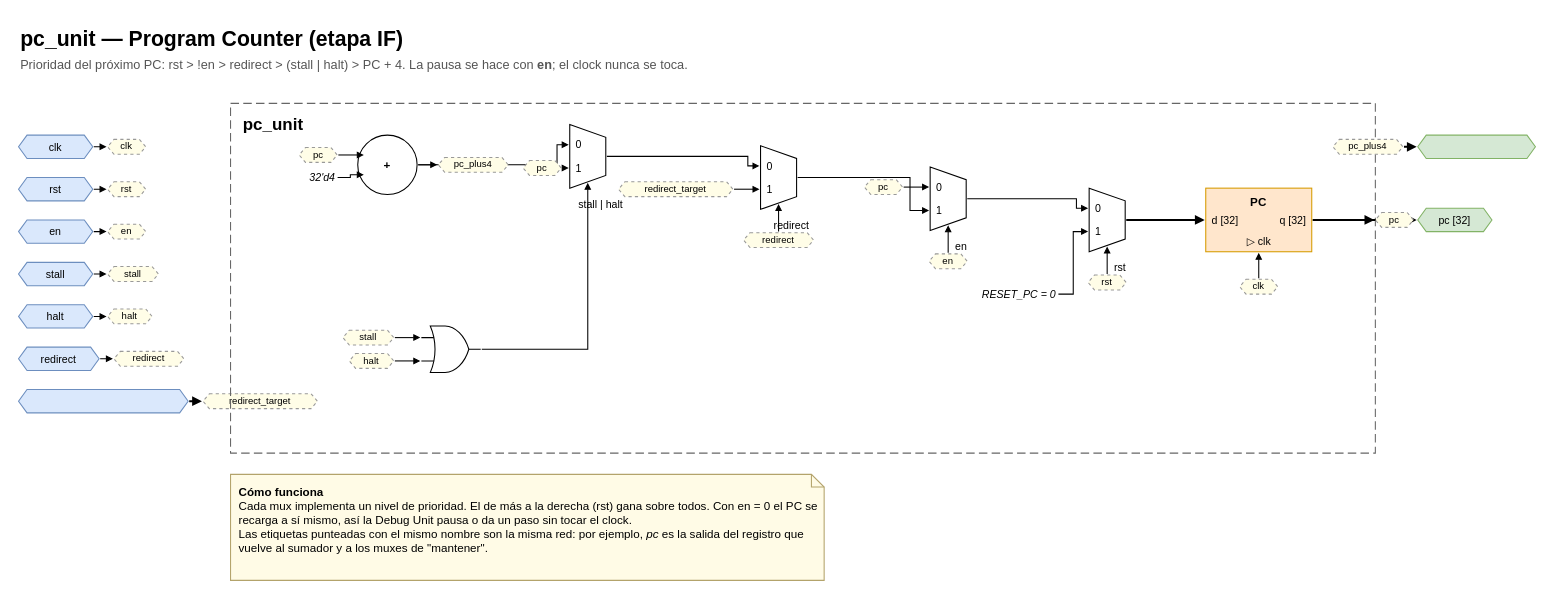
The diagram is 1554 pixels wide and 599 high, and some of its shapes have lost their labels. Here are the shapes that lost their labels. From the top down, the centre of each, then its label:
At pixel 1476 146: "pc_plus4 [32]".
At pixel 102 400: "redirect_target [32]".
